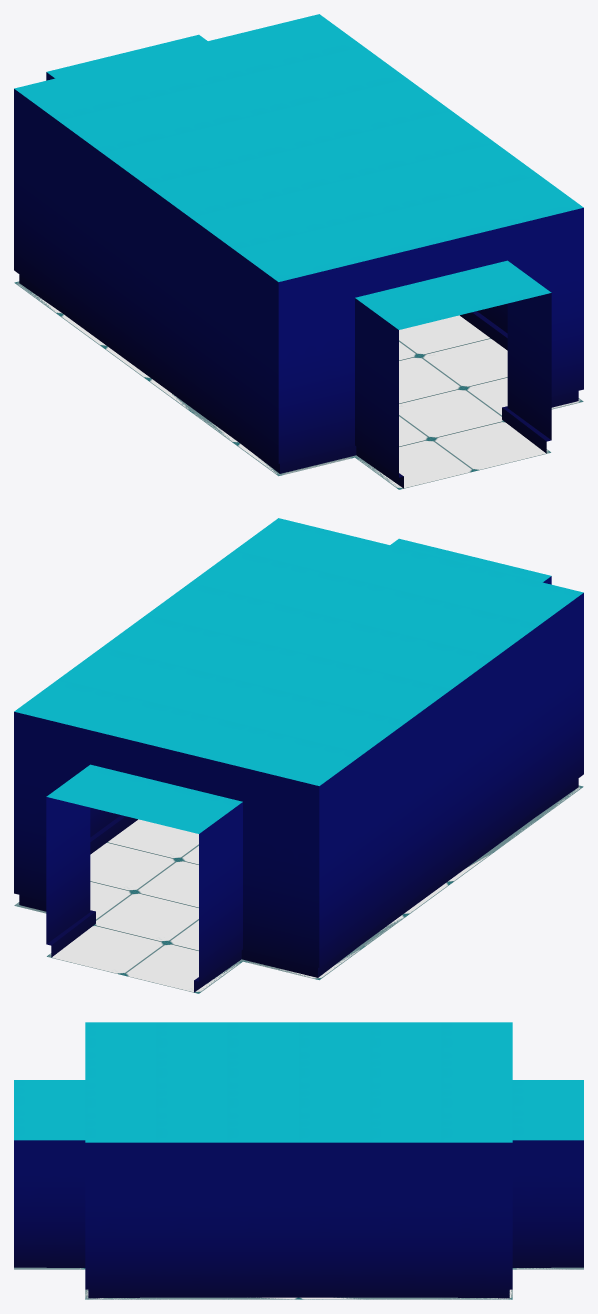
File: Corredor1SaidaP.fbx
The picture shows the model from 3 angles, top to bottom: view 1: azimuth 30°, elevation 25°; view 2: azimuth 150°, elevation 25°; view 3: azimuth 270°, elevation 25°; orthographic projection. The views are drawn at different scales.
Visible parts, largest first — view 1: Corredor1SaidaP; view 2: Corredor1SaidaP; view 3: Corredor1SaidaP.
Boxes of the visible parts, box(x1,y1,x2,y2) form: Corredor1SaidaP: box(14, 14, 583, 489); Corredor1SaidaP: box(14, 518, 583, 993); Corredor1SaidaP: box(14, 1022, 583, 1299).
Size of the model in its own units: 400 by 243 by 800.
Materials: 1 (1 with a texture image).
